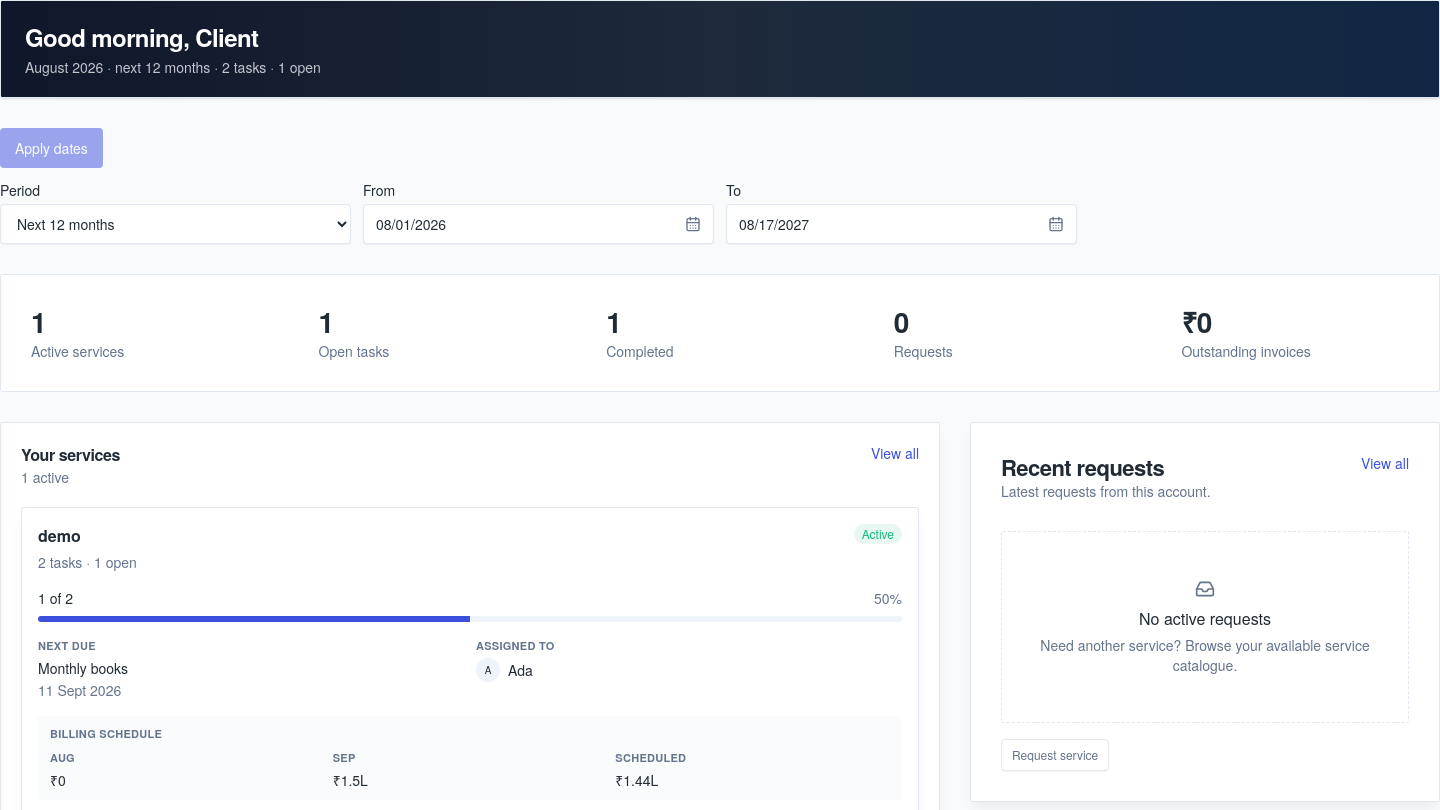
applies a date range and reloads dashboard data from the API
Expected: the text "Monthly books" is shown, [38,658,128,678]
Expected: the text "Open tasks" is shown, [319,341,389,361]
Step 1. Select "This month" in the dropdown named "Dashboard date preset" → point(176, 224), box [0,204,351,244]
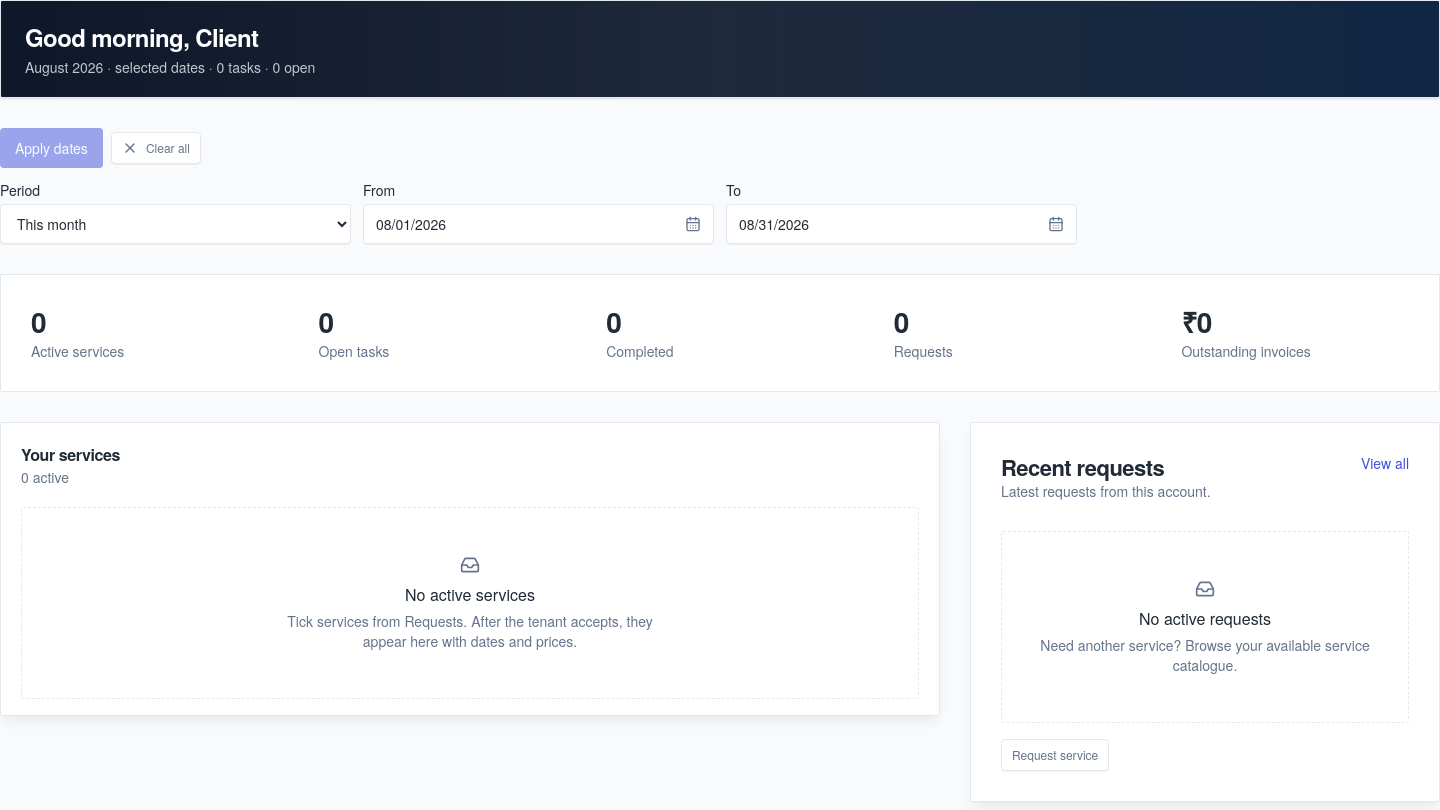
Now the text "No active services" is shown, box [405,583,535,606]
